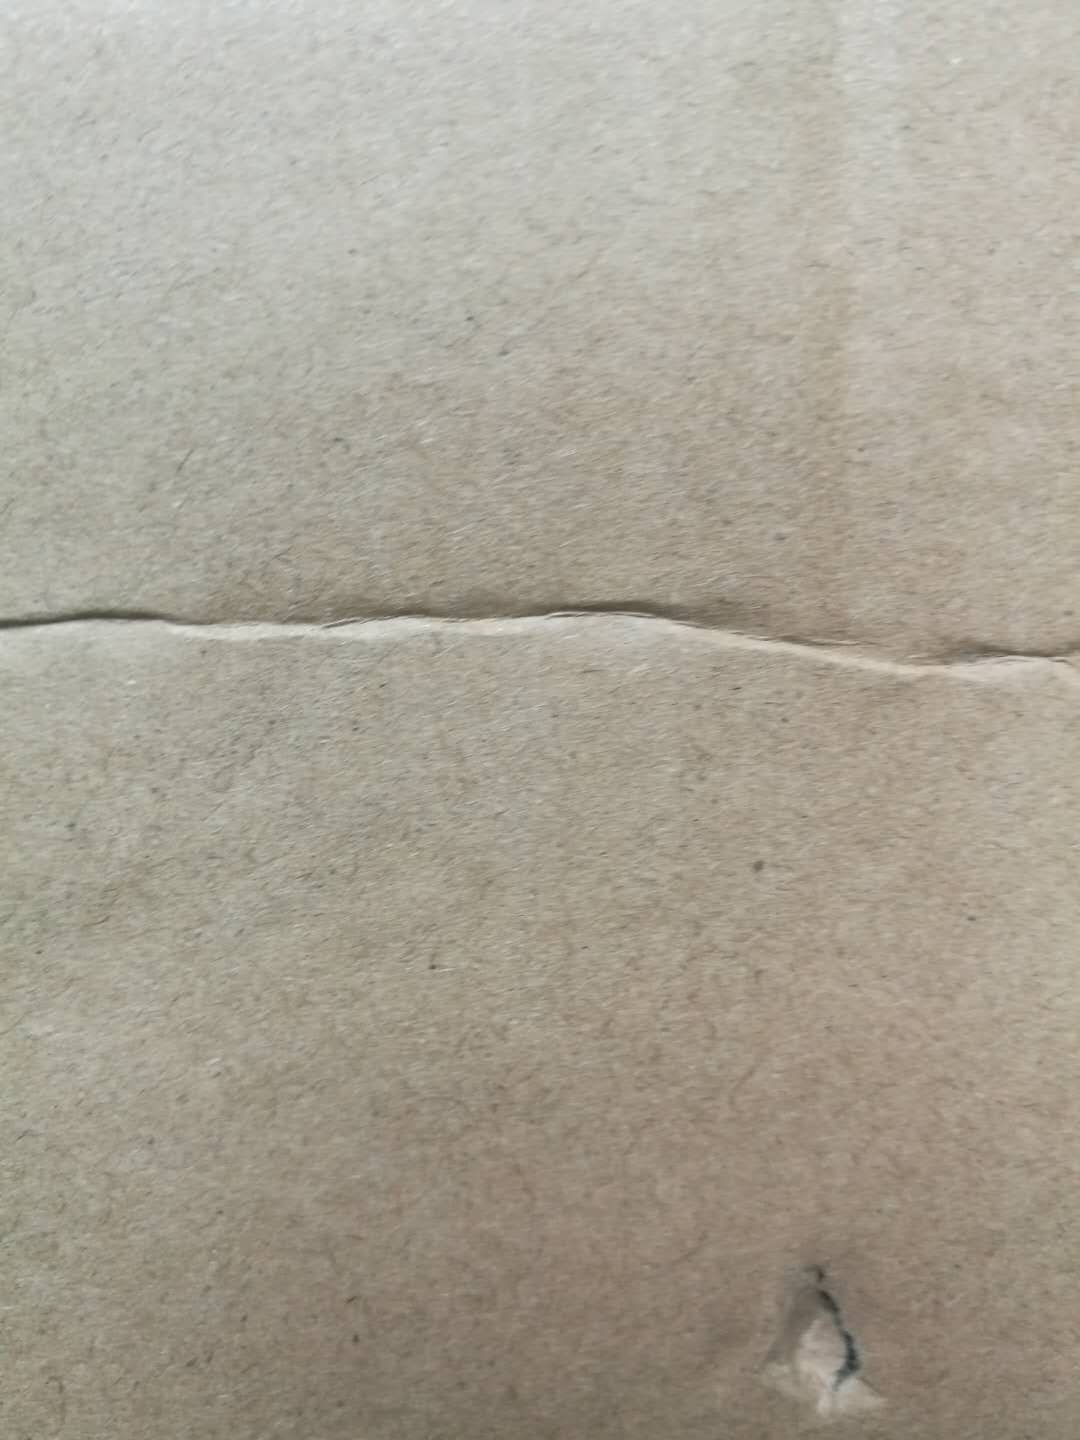defect: (3, 522, 1080, 728), (711, 1242, 908, 1433)
